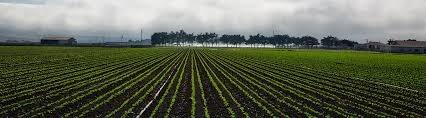field: (0, 46, 425, 117)
